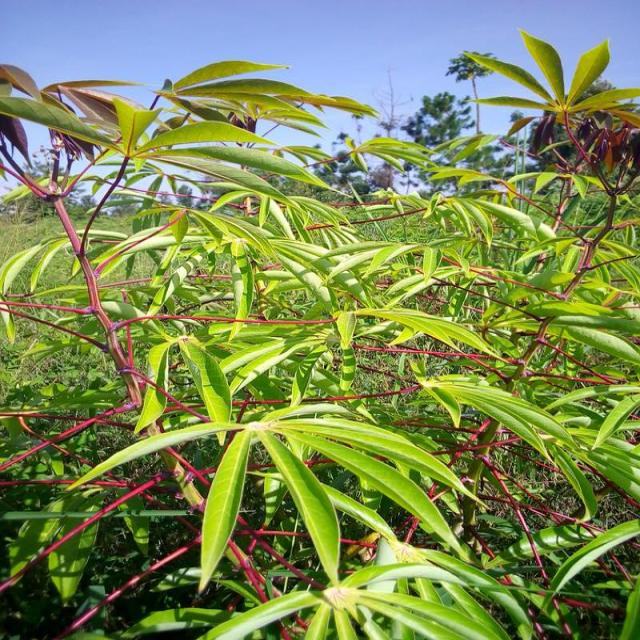cassava leaf: (2, 33, 639, 638), (198, 425, 254, 594)
